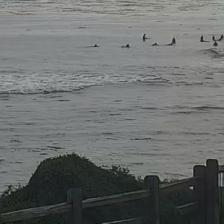surfer: (120, 43, 130, 48), (200, 35, 205, 42), (91, 44, 99, 48), (142, 33, 146, 40), (172, 38, 176, 44), (219, 34, 223, 40), (213, 42, 218, 46), (152, 43, 158, 46), (212, 36, 216, 40)
